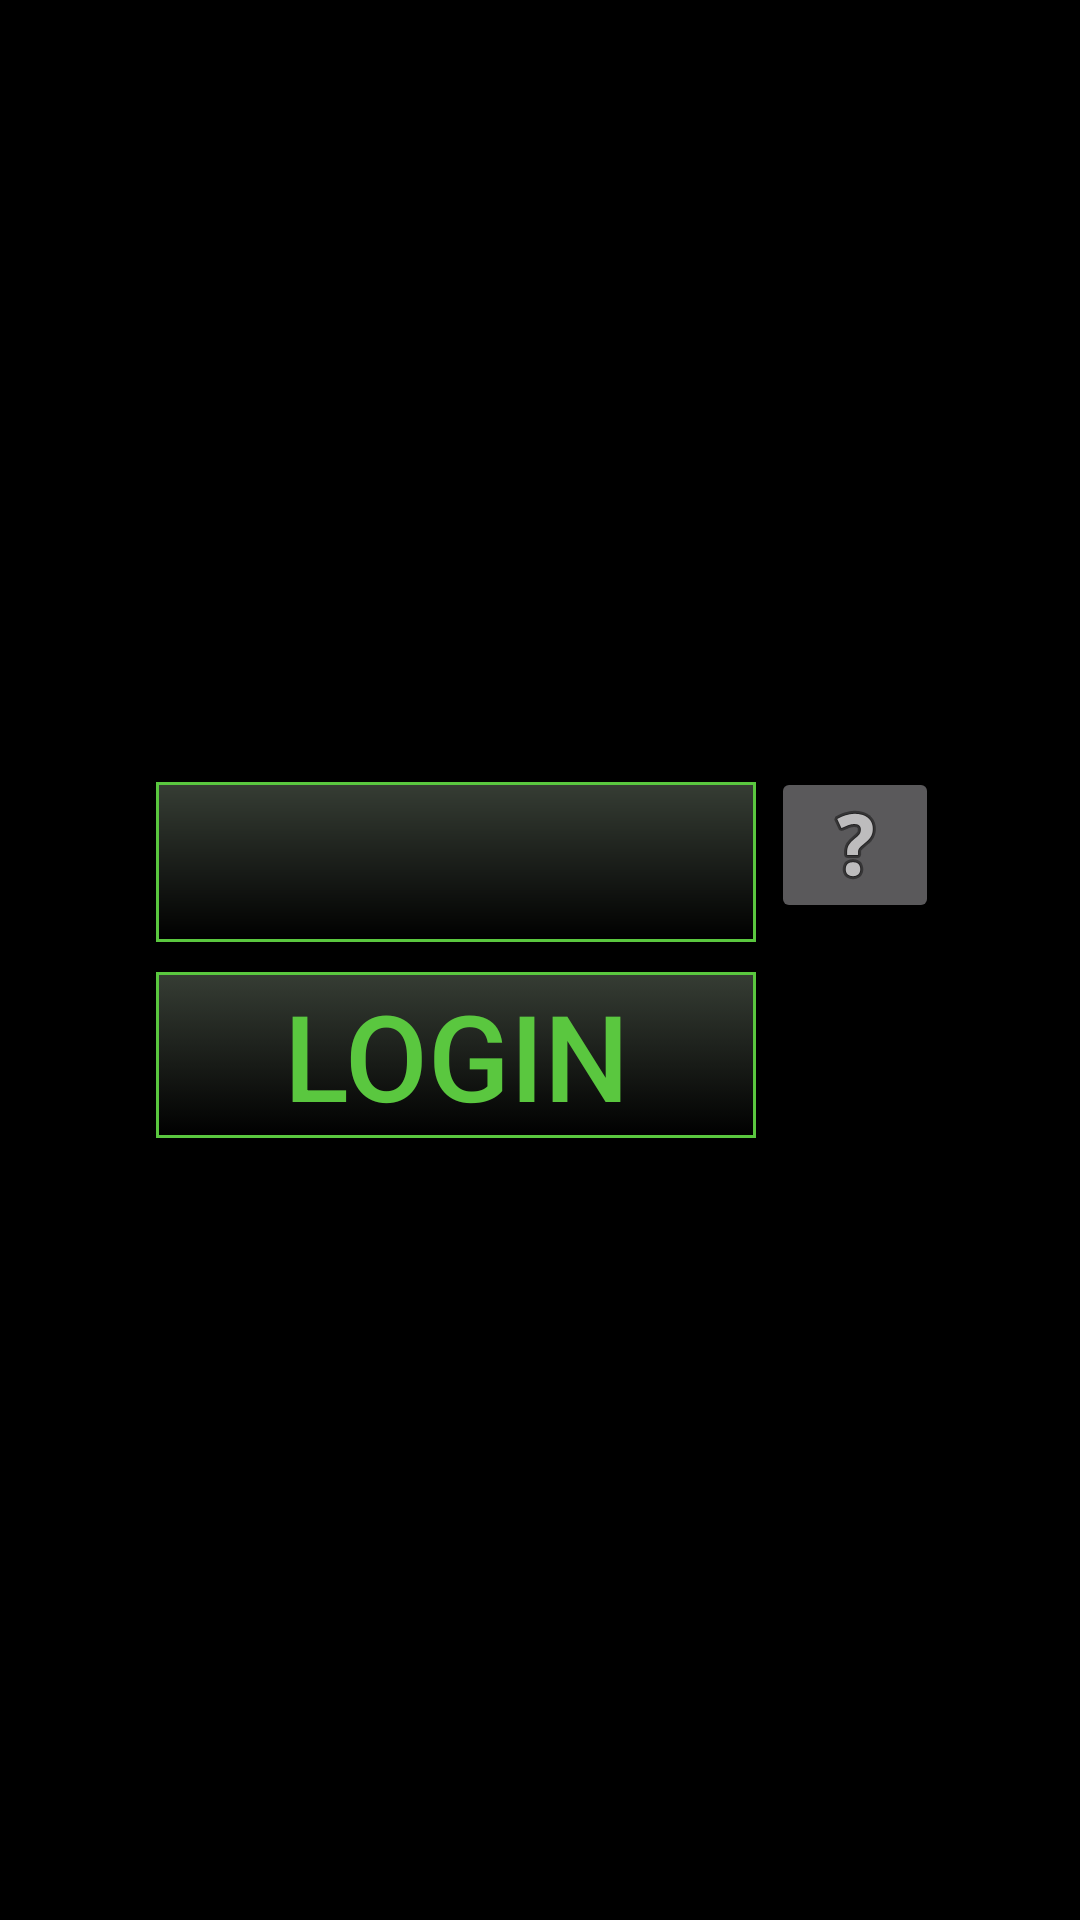

Icons on this 1080*1920 Android screen, each with its box as (x1, y1, x2, y2):
help: (783, 785, 927, 905)
